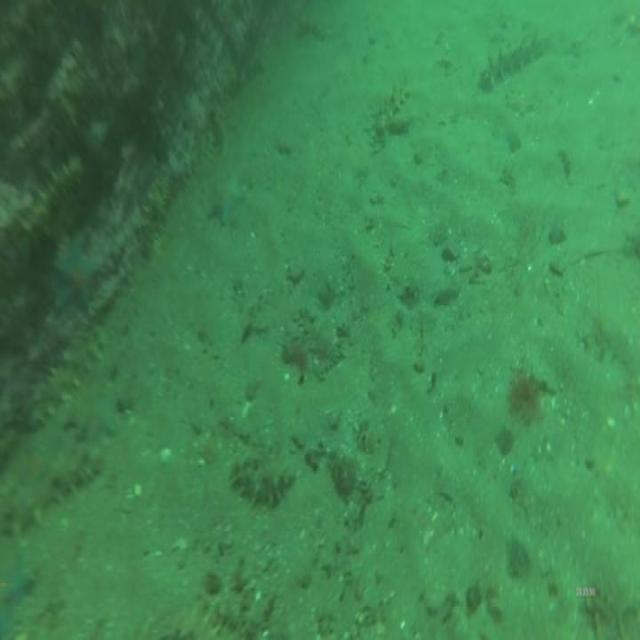holothurian: (18, 147, 84, 253), (229, 450, 295, 520), (476, 30, 552, 90), (45, 450, 106, 504), (206, 594, 267, 640), (140, 175, 166, 258), (378, 84, 412, 137)
starfish: (54, 237, 102, 319), (205, 169, 248, 231), (0, 559, 32, 640), (82, 389, 119, 447), (180, 95, 214, 142)
